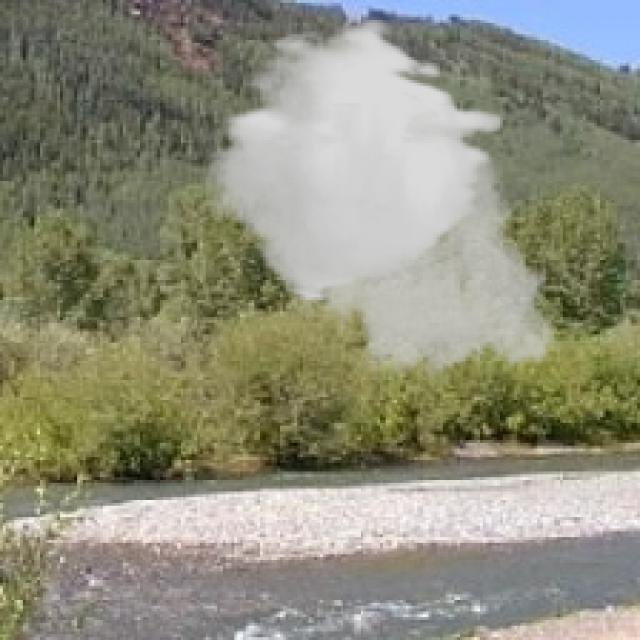Smoke: (206, 17, 572, 389)
